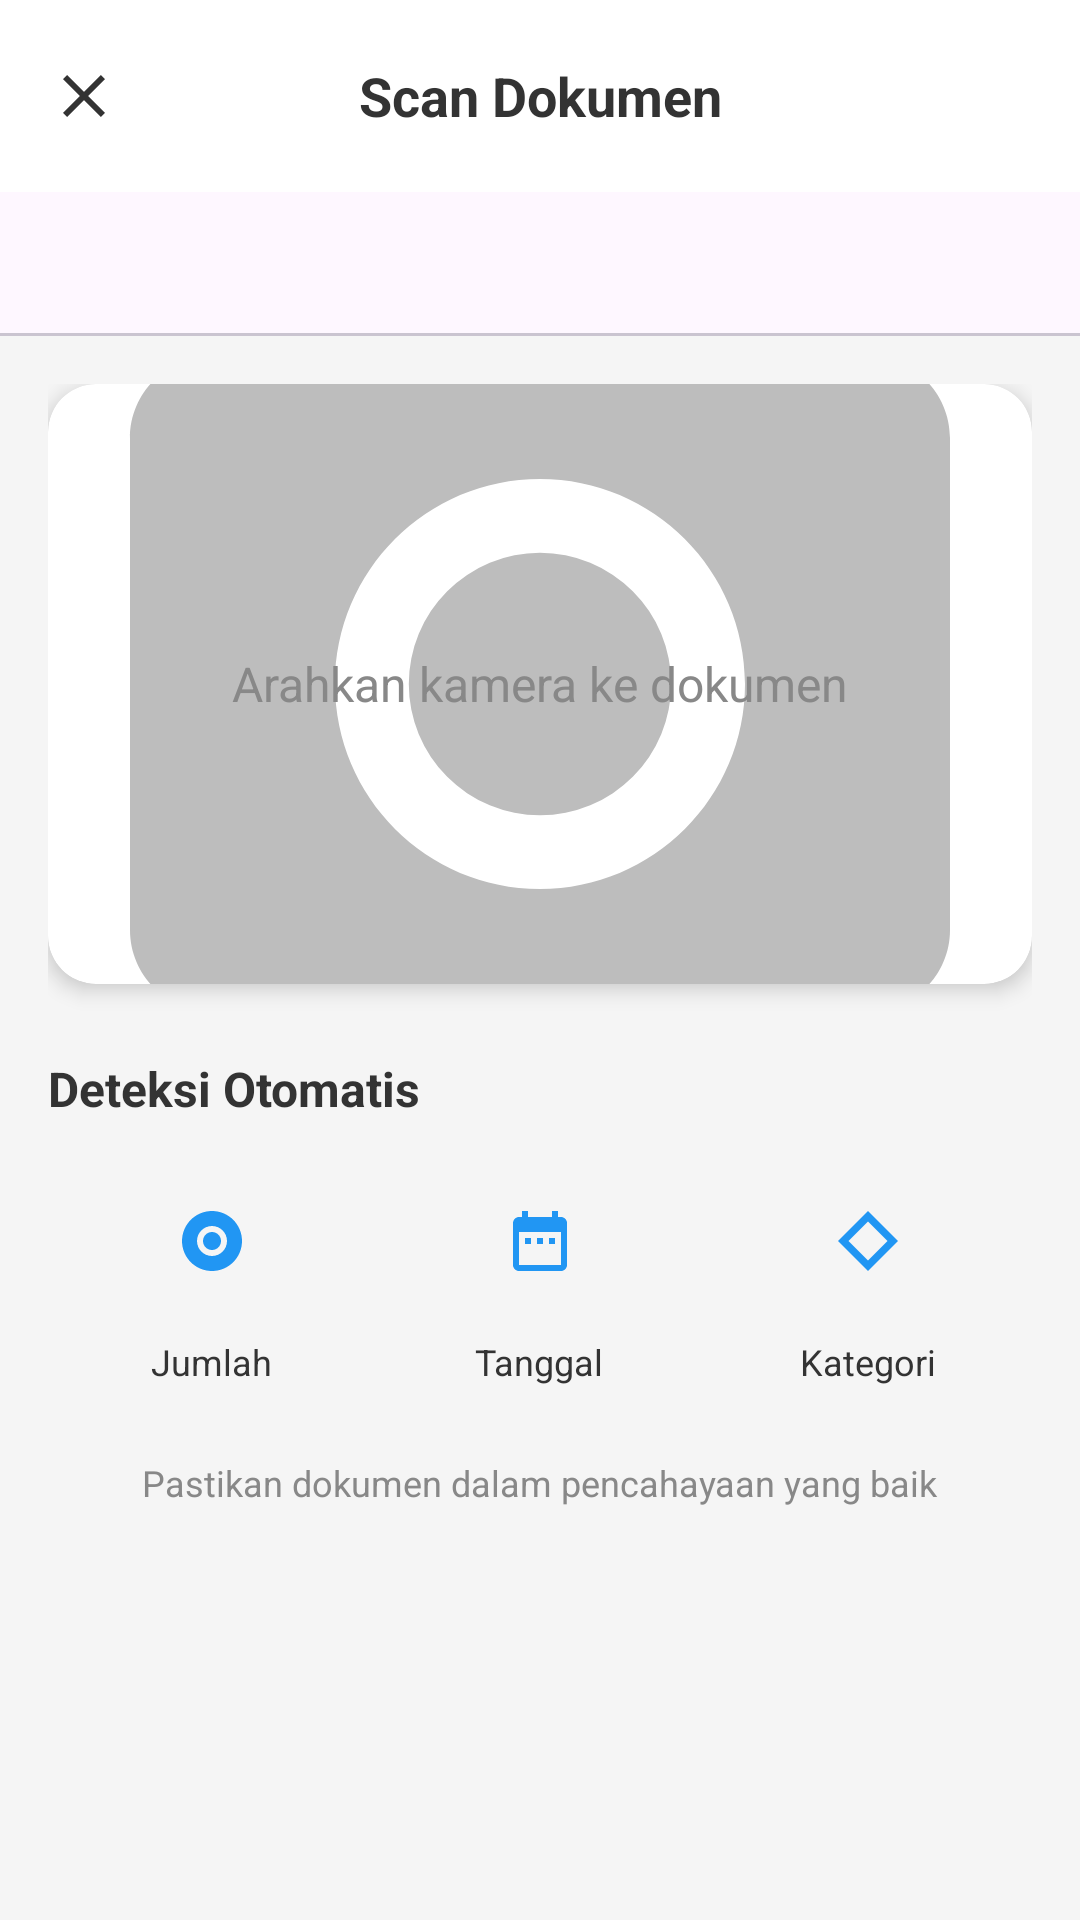

Icon click points for this 1080×1920 phone screenshot, format (x,y):
close: (84,96)
date range: (540,1241)
